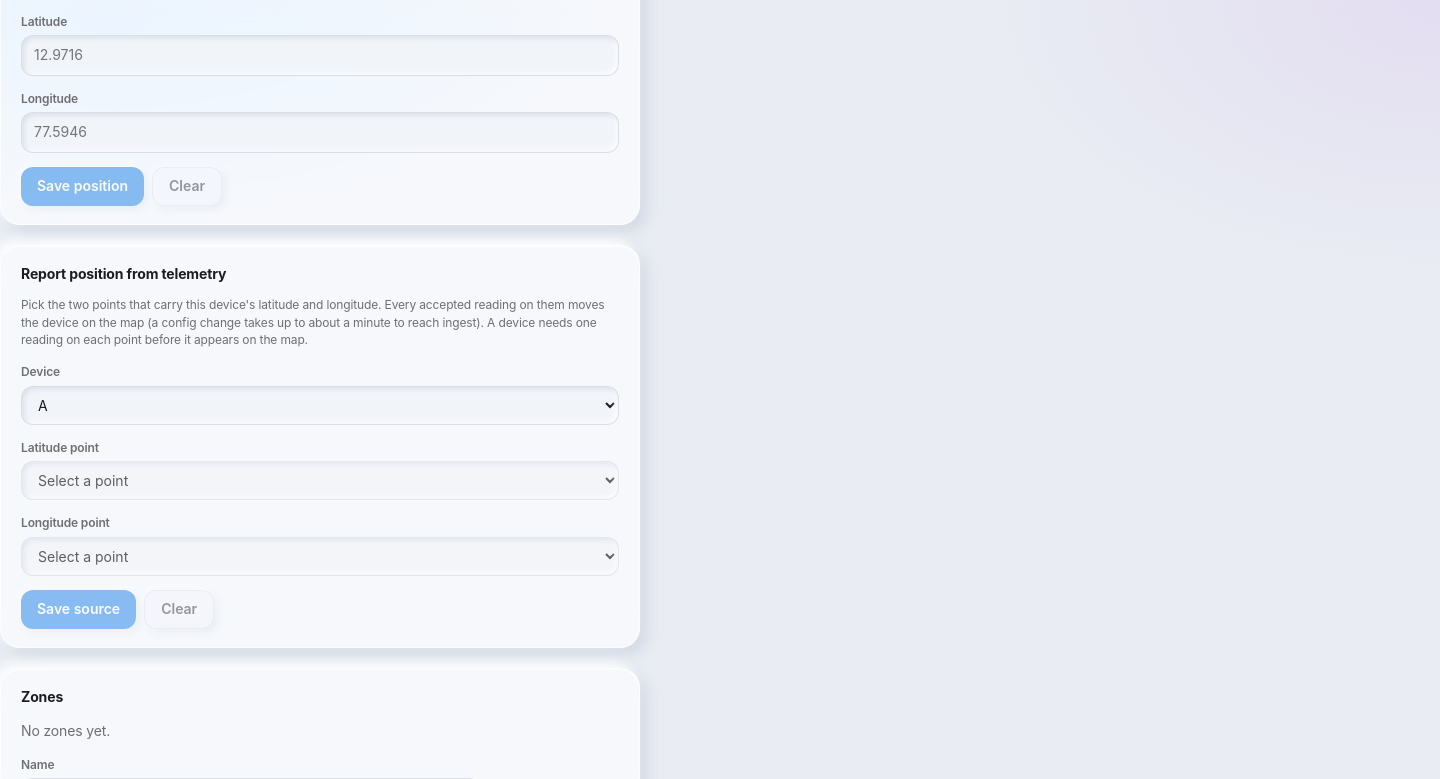
Test case: source catalog errors block saving, retry validates points and ignores prior device response
(page scrolled)
Select "A" in the dropdown with id "ms-dev": (320, 405) x1=21 y1=386 x2=619 y2=425
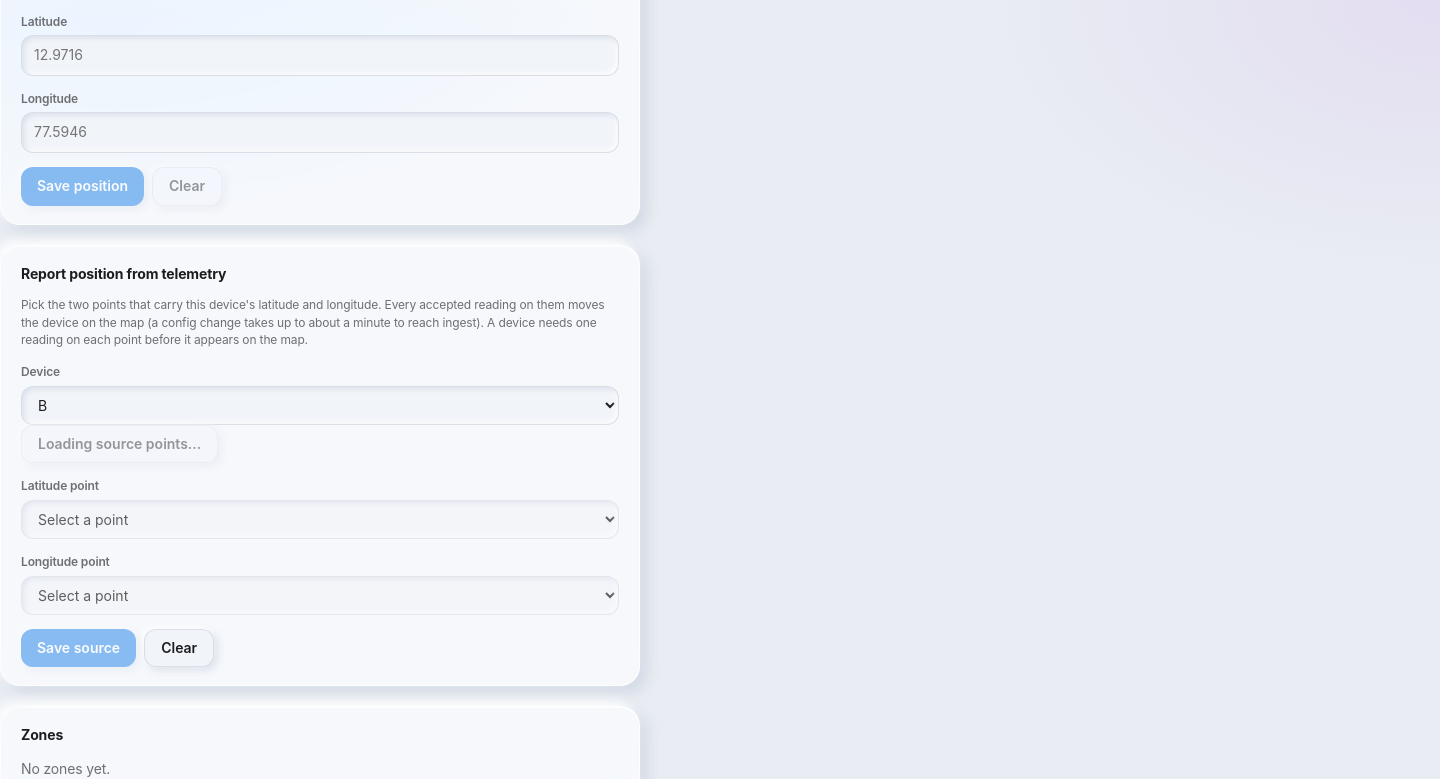
Expected: the button "Save source" is disabled, x1=21 y1=628 x2=136 y2=667
Select "B" in the dropdown with id "ms-dev": (320, 405) x1=21 y1=386 x2=619 y2=425
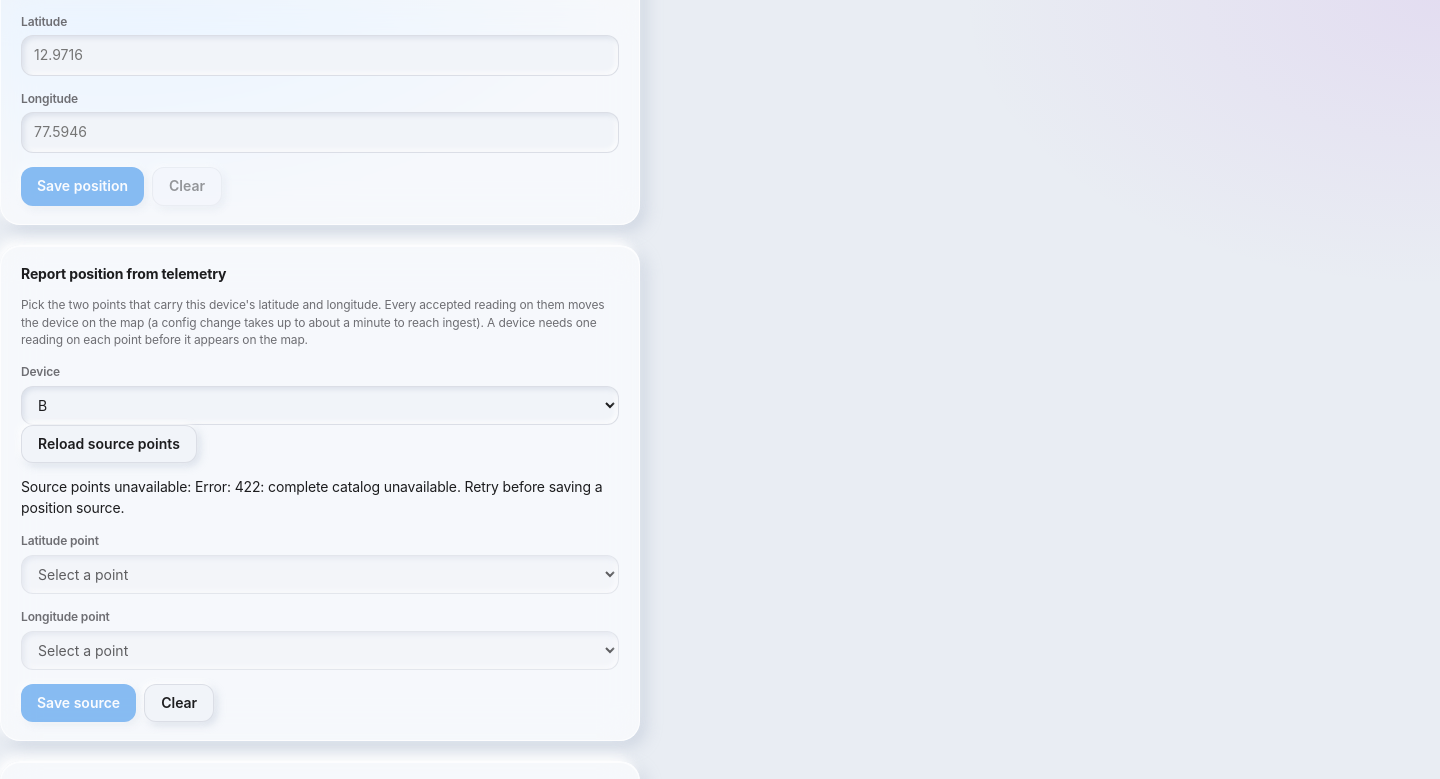
Expected: the button "Save source" is disabled, x1=21 y1=684 x2=136 y2=722
Expected: the text "Source points unavailable" is shown, x1=21 y1=478 x2=195 y2=495
Click the button "Reload source points": (109, 444) x1=21 y1=425 x2=197 y2=463
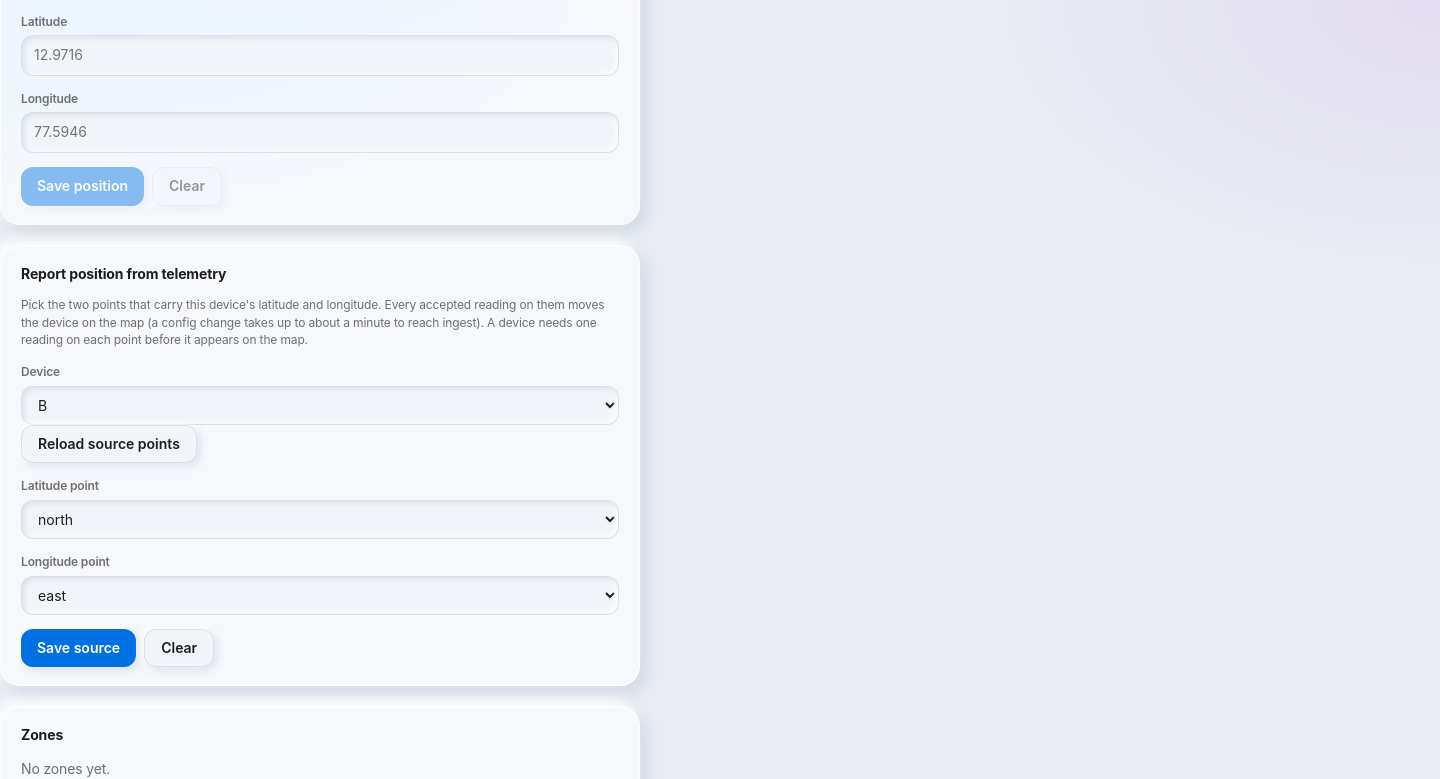
Expected: the button "Save source" is enabled, x1=21 y1=628 x2=136 y2=667
Expected: the dropdown with id "ms-lat" shows "north", x1=21 y1=500 x2=619 y2=539
Click the button "Reload source points": (109, 444) x1=21 y1=425 x2=197 y2=463
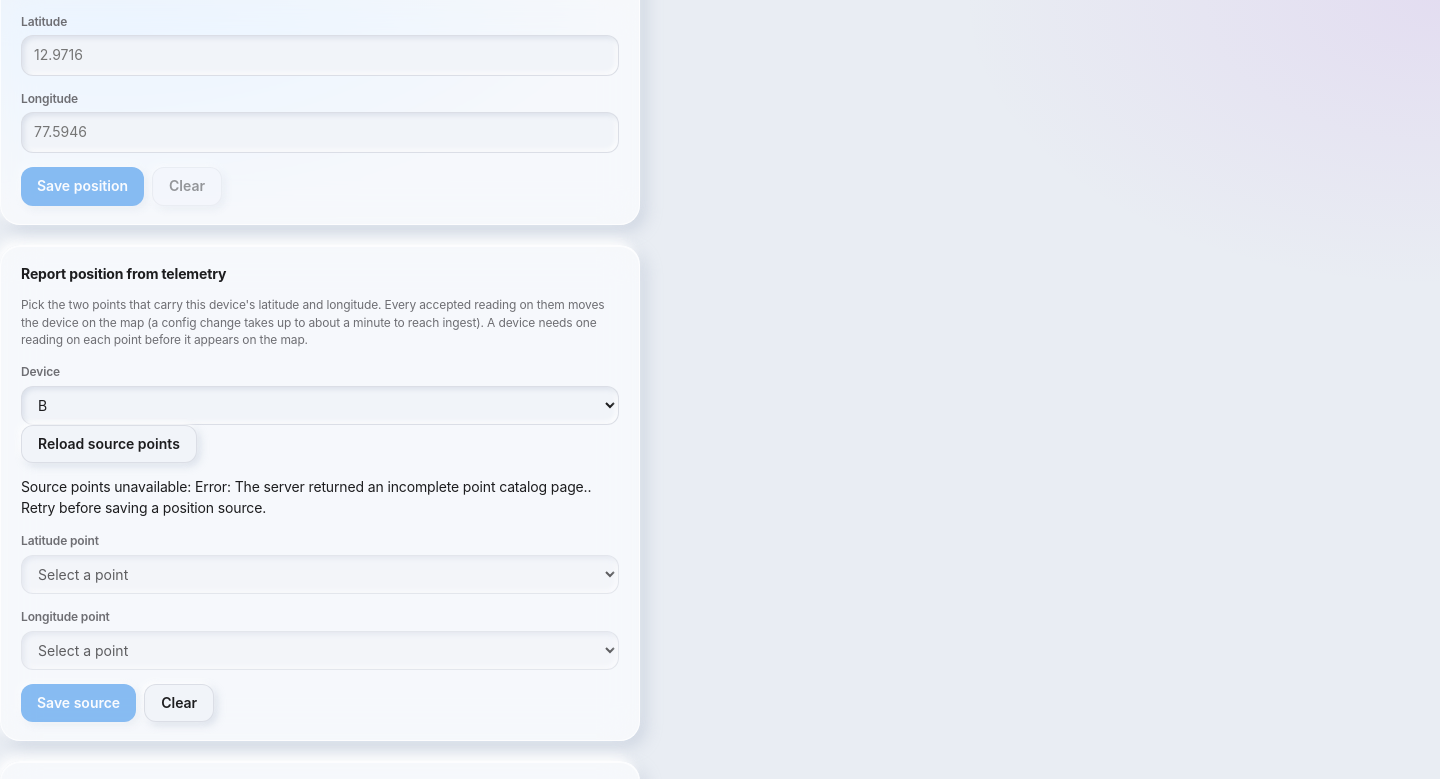
Expected: the text "incomplete point catalog" is shown, x1=195 y1=478 x2=588 y2=495
Expected: the button "Save source" is disabled, x1=21 y1=684 x2=136 y2=722
